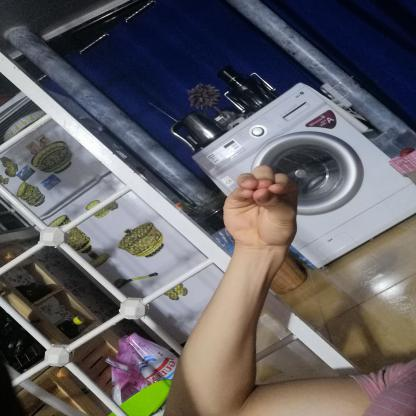HA: (209, 158, 313, 257)
